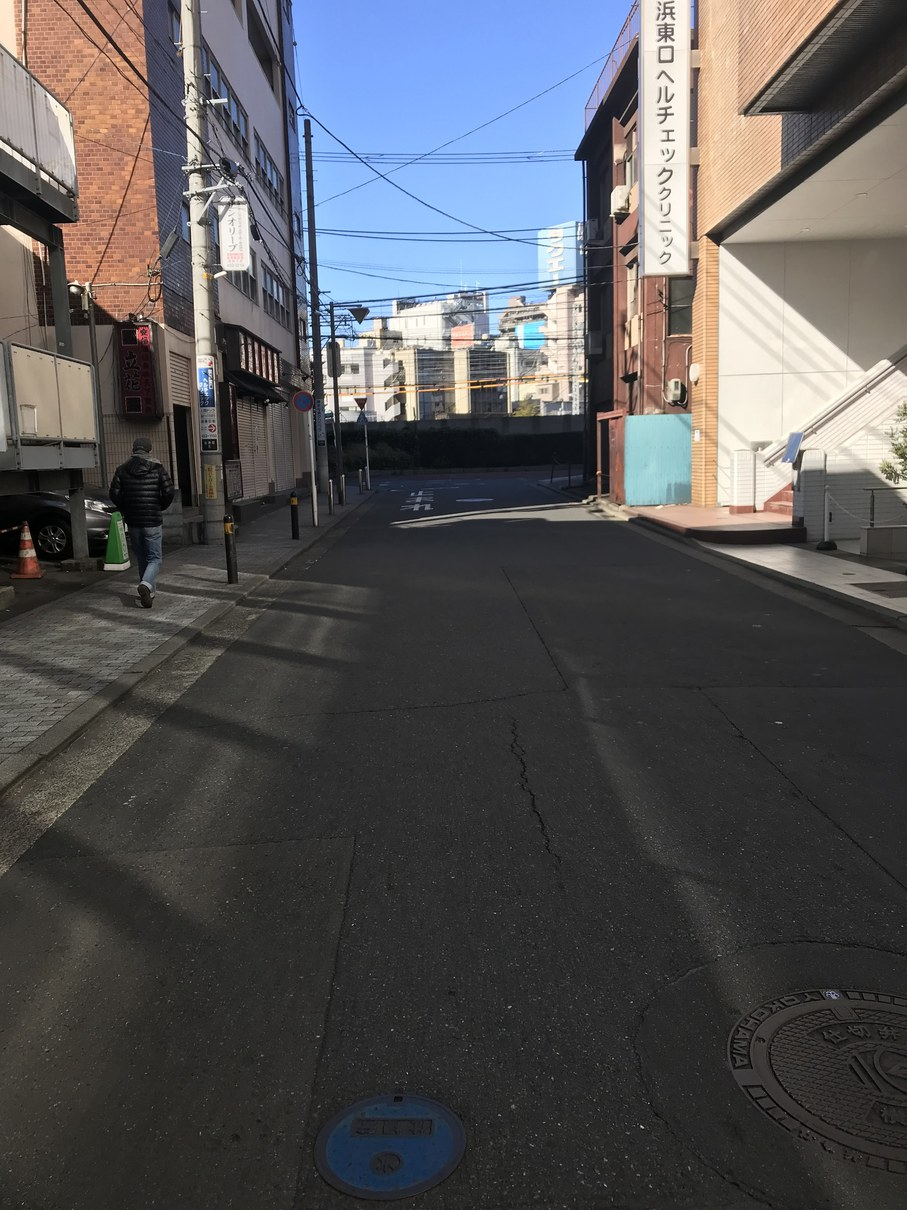stop_sign: (354, 397, 368, 410)
